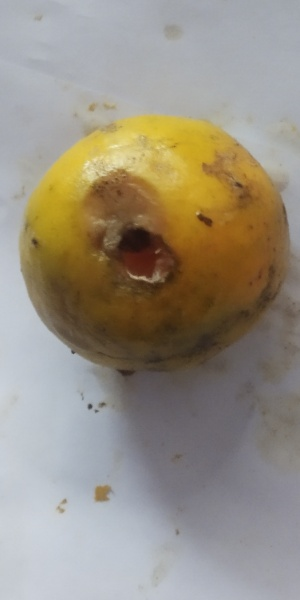BAD: (17, 114, 297, 368)
